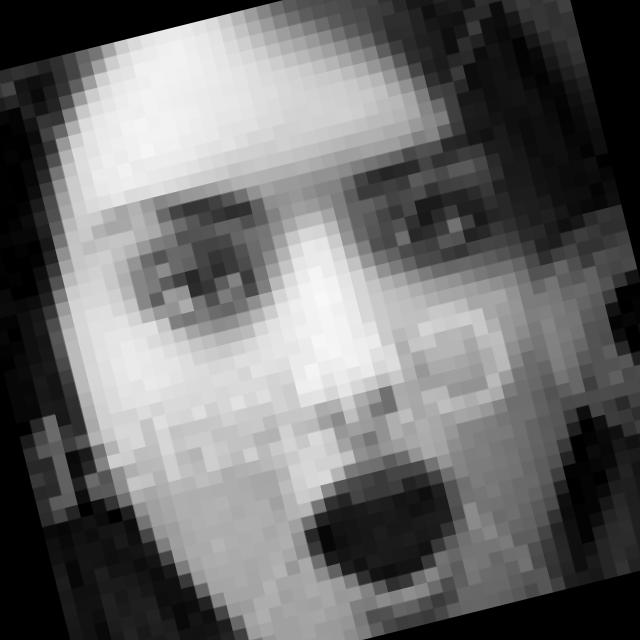surprise: (64, 111, 599, 640)
